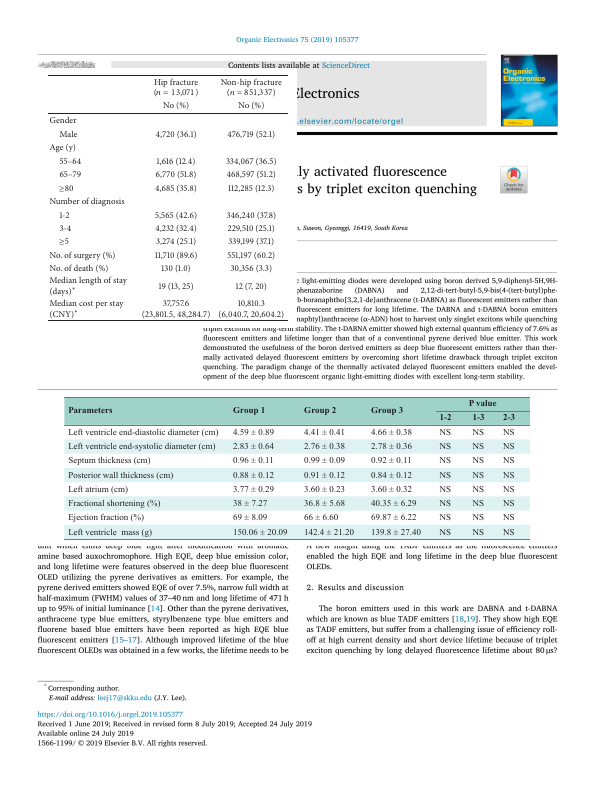borderless: (63, 395, 530, 539), (46, 73, 288, 320)
cell: (48, 275, 128, 297), (48, 298, 124, 320), (141, 298, 211, 320), (66, 428, 219, 438), (66, 442, 216, 452), (217, 298, 285, 320), (220, 77, 283, 100), (66, 471, 174, 481), (153, 77, 199, 100), (66, 499, 161, 509), (66, 456, 151, 467), (66, 528, 152, 538), (48, 196, 126, 207), (66, 513, 144, 524), (48, 250, 116, 260), (48, 263, 109, 274), (66, 485, 128, 495), (225, 156, 278, 167), (225, 210, 277, 221), (232, 528, 288, 538), (226, 129, 276, 140), (227, 223, 276, 234), (370, 513, 417, 524), (226, 170, 277, 180), (303, 528, 354, 538), (370, 528, 421, 538), (226, 250, 276, 260), (154, 129, 198, 140), (154, 210, 198, 221), (154, 223, 198, 234), (229, 263, 273, 274), (227, 183, 275, 193), (227, 237, 275, 247), (370, 499, 417, 509), (232, 456, 274, 467), (303, 456, 345, 467), (370, 456, 412, 467), (67, 407, 113, 417), (156, 156, 196, 167), (154, 183, 198, 193), (154, 250, 198, 260), (155, 170, 197, 180), (155, 237, 197, 247), (232, 428, 274, 438), (303, 428, 345, 438), (370, 428, 412, 438), (232, 442, 274, 452), (303, 442, 345, 452), (370, 442, 412, 452), (232, 471, 274, 481), (303, 471, 345, 481), (370, 471, 412, 481), (232, 485, 274, 495), (303, 485, 345, 495), (370, 485, 412, 495), (303, 499, 345, 509), (232, 513, 268, 524), (303, 513, 339, 524), (157, 281, 195, 291), (232, 499, 268, 509), (160, 263, 192, 274), (369, 407, 404, 417), (232, 407, 266, 417), (303, 407, 337, 417), (48, 115, 78, 126), (235, 281, 268, 291), (48, 142, 77, 153), (467, 400, 497, 410), (162, 101, 190, 111), (237, 101, 265, 111), (58, 156, 82, 167), (58, 170, 82, 180), (58, 180, 74, 195), (58, 129, 78, 140), (58, 233, 70, 249), (58, 223, 72, 234), (438, 456, 452, 467), (471, 456, 485, 467), (438, 513, 452, 524), (471, 513, 485, 524), (502, 456, 515, 467), (502, 513, 515, 524), (438, 414, 452, 424), (471, 414, 485, 424), (501, 414, 515, 424), (438, 428, 452, 438), (471, 428, 485, 438), (438, 442, 452, 452), (471, 442, 485, 452), (438, 471, 452, 481), (471, 471, 485, 481), (438, 485, 452, 495), (471, 485, 485, 495), (438, 499, 452, 509), (471, 499, 485, 509), (438, 528, 452, 538), (471, 528, 485, 538), (58, 210, 70, 221), (502, 428, 515, 438), (502, 442, 515, 452), (502, 471, 515, 481), (502, 485, 515, 495), (502, 499, 515, 509), (502, 528, 515, 538)
